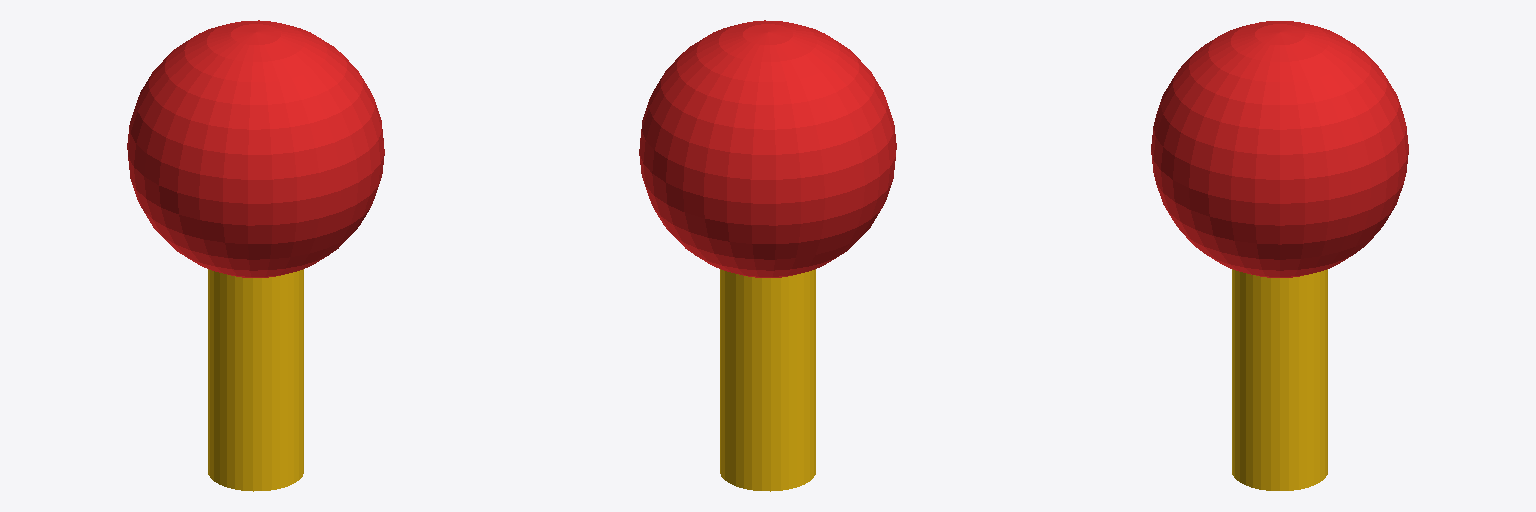
robot.urdf — rattle:
<?xml version="1.0"?>
<robot name="rattle">
  <!-- Base link is the handle -->
  <link name="handle_link">
    <inertial>
      <mass value="0.05"/>
      <origin xyz="0 0 0" rpy="0 0 0"/>
      <inertia ixx="0.0001" ixy="0" ixz="0" iyy="0.0001" iyz="0" izz="0.00005"/>
    </inertial>
    <visual>
      <origin xyz="0 0 0" rpy="0 0 0"/>
      <geometry>
        <cylinder radius="0.015" length="0.1"/>
      </geometry>
      <material name="yellow">
        <color rgba="1.0 0.8 0.1 1.0"/>
      </material>
    </visual>
    <collision>
      <origin xyz="0 0 0" rpy="0 0 0"/>
      <geometry>
        <cylinder radius="0.015" length="0.1"/>
      </geometry>
    </collision>
  </link>

  <!-- Head link rigidly attached -->
  <link name="head_link">
    <inertial>
      <mass value="0.05"/>
      <origin xyz="0 0 0" rpy="0 0 0"/>
      <inertia ixx="0.0001" ixy="0" ixz="0" iyy="0.0001" iyz="0" izz="0.0001"/>
    </inertial>
    <visual>
      <origin xyz="0 0 0" rpy="0 0 0"/>
      <geometry>
        <sphere radius="0.04"/>
      </geometry>
      <material name="red">
        <color rgba="0.9 0.2 0.2 1.0"/>
      </material>
    </visual>
    <collision>
      <origin xyz="0 0 0" rpy="0 0 0"/>
      <geometry>
        <sphere radius="0.04"/>
      </geometry>
    </collision>
  </link>

  <joint name="handle_to_head" type="fixed">
    <parent link="handle_link"/>
    <child link="head_link"/>
    <origin xyz="0 0 0.06" rpy="0 0 0"/>
  </joint>
</robot>

--- Facts derived from the render (not from the file) ---
3 views of the same robot in one strip: view 1: azimuth 30°, elevation 25°; view 2: azimuth 150°, elevation 25°; view 3: azimuth 270°, elevation 25° (orthographic).
Robot: rattle — 2 links, 1 joints (1 fixed); root link handle_link; default pose: every joint at zero.
Visible links, largest first — view 1: head_link, handle_link; view 2: head_link, handle_link; view 3: head_link, handle_link.
Link boxes in pixels (box(x1,y1,x2,y2)): head_link: box(127, 20, 384, 277); handle_link: box(208, 269, 303, 491); head_link: box(639, 20, 896, 277); handle_link: box(720, 269, 815, 491); head_link: box(1151, 21, 1408, 277); handle_link: box(1232, 269, 1327, 490).
Bounding box of the posed robot: 0.08 × 0.08 × 0.15 m (x, y, z).
Geometry: primitives only (box / cylinder / sphere), no mesh files.
